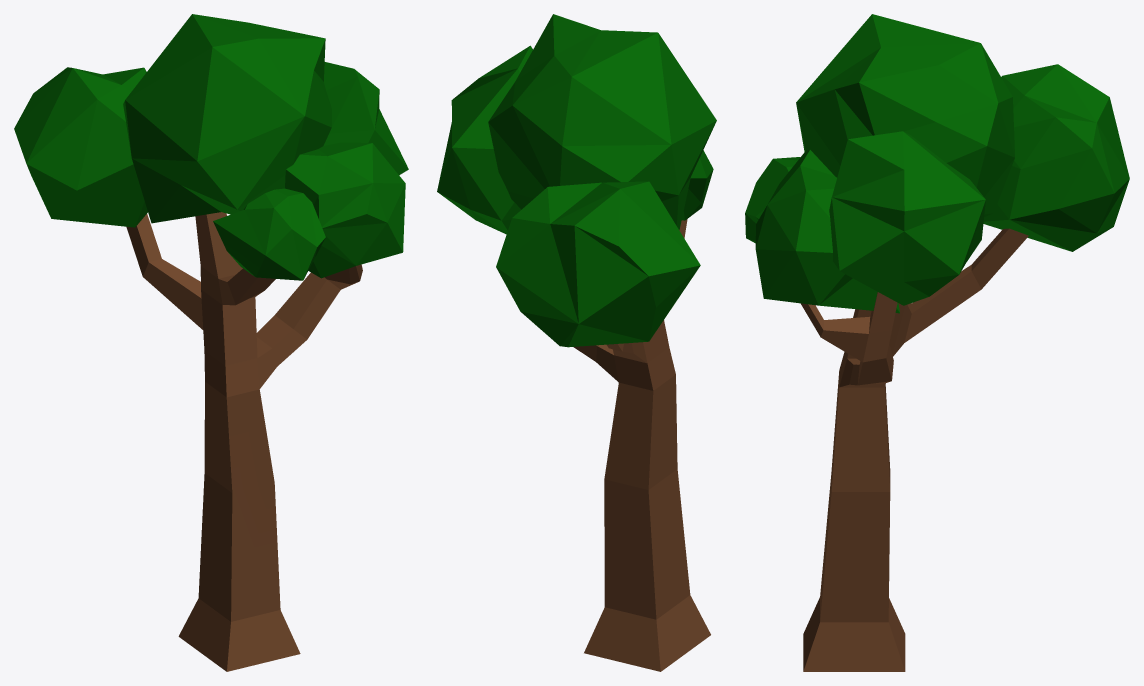
The model's file is low-poly-tree-4.glb.
3 renders of one model, left to right at view 1: azimuth 30°, elevation 25°; view 2: azimuth 150°, elevation 25°; view 3: azimuth 270°, elevation 25°, orthographic. The views are drawn at different scales.
Visible parts, largest first — view 1: low-poly-tree-4; view 2: low-poly-tree-4; view 3: low-poly-tree-4.
Boxes of the visible parts, x1,y1,x2,y2 form: low-poly-tree-4: [14, 14, 408, 671]; low-poly-tree-4: [437, 14, 716, 671]; low-poly-tree-4: [745, 14, 1129, 671].
Bounding box in the file's own units: 2.65 × 5.1 × 2.82.
